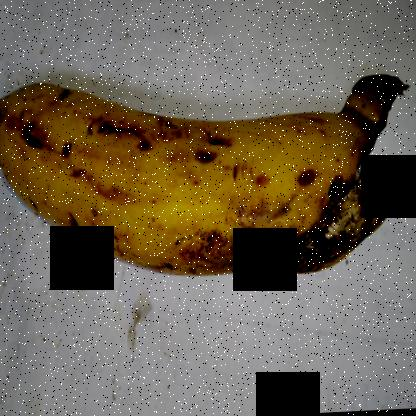ripe: (0, 86, 284, 278)
rotten: (213, 118, 404, 314)
